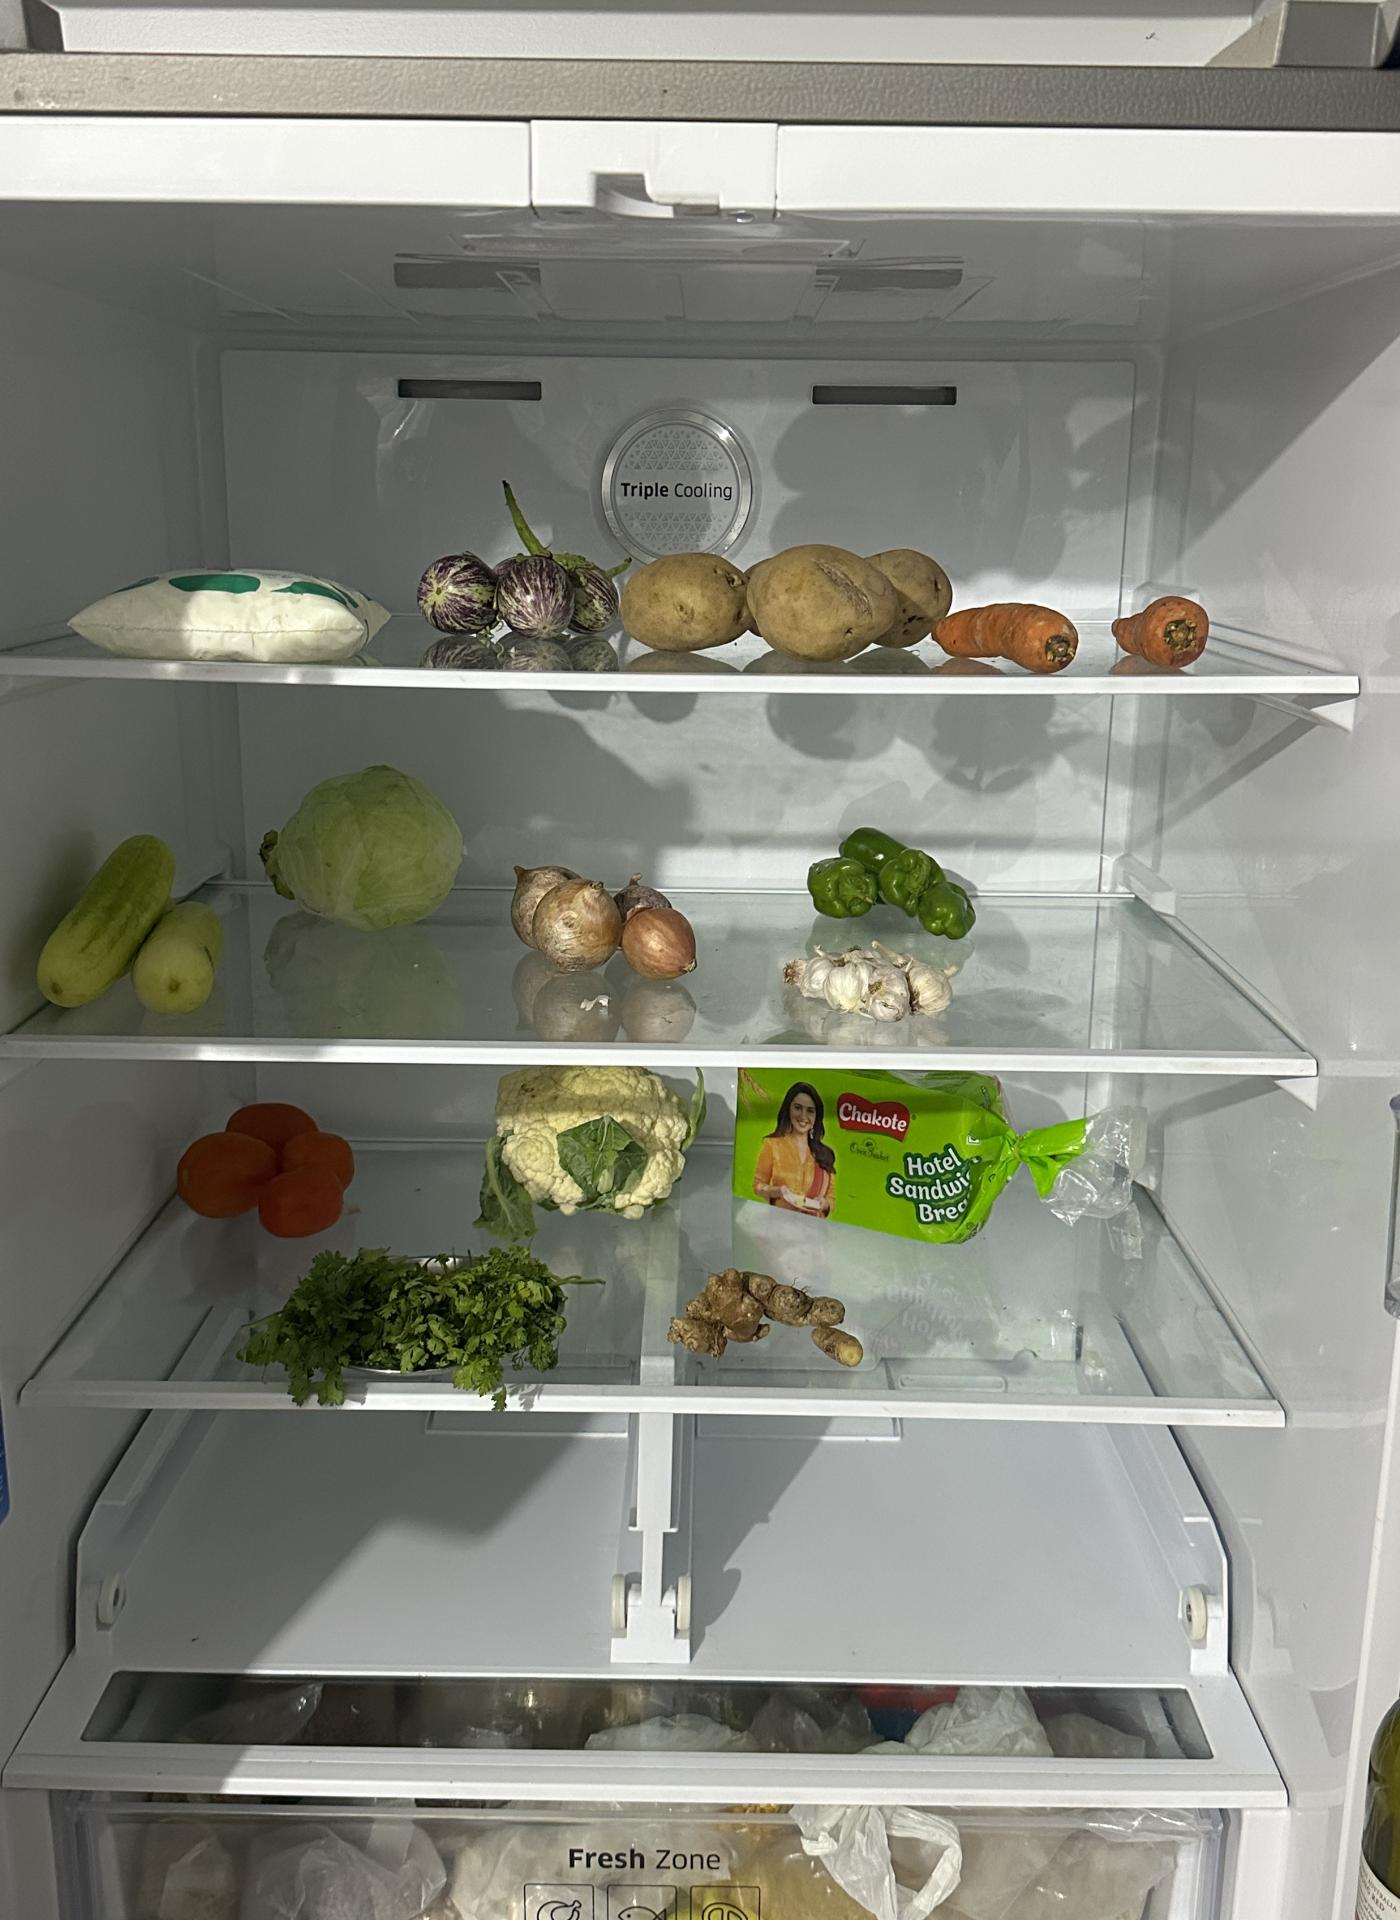bread: (725, 1061, 1014, 1237)
brinjal: (400, 531, 623, 659)
cabbage: (262, 768, 467, 929)
capsicum: (813, 826, 981, 939)
carrots: (948, 593, 1215, 671)
cauliflower: (488, 1061, 701, 1212)
coriander: (240, 1248, 567, 1394)
cucumber: (33, 829, 216, 1011)
garlic: (780, 938, 957, 1020)
ginger: (671, 1270, 865, 1373)
milk: (70, 563, 395, 672)
onion: (511, 862, 698, 970)
potato: (604, 529, 933, 641)
tomato: (164, 1087, 355, 1242)
